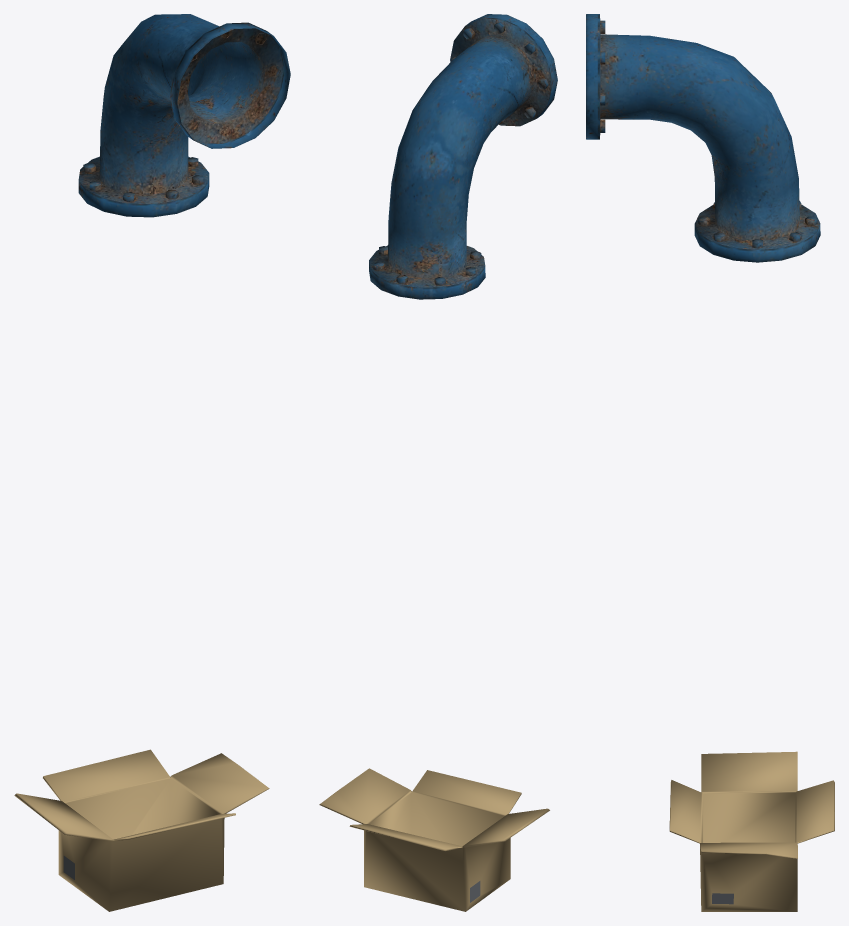
The model's file is box_and_pipe.glb.
3 views of the same model, side by side, from view 1: azimuth 30°, elevation 25°; view 2: azimuth 150°, elevation 25°; view 3: azimuth 270°, elevation 25° (orthographic). The views are drawn at different scales.
Parts seen in each view (by area): view 1: PipeRespawn, SM_Prop_Cardboard_Box_02; view 2: PipeRespawn, SM_Prop_Cardboard_Box_02; view 3: PipeRespawn, SM_Prop_Cardboard_Box_02.
Boxes of the visible parts, x1=… form: PipeRespawn: x1=78, y1=14, x2=290, y2=217; SM_Prop_Cardboard_Box_02: x1=14, y1=749, x2=269, y2=911; PipeRespawn: x1=369, y1=14, x2=557, y2=299; SM_Prop_Cardboard_Box_02: x1=319, y1=768, x2=549, y2=911; PipeRespawn: x1=586, y1=14, x2=820, y2=262; SM_Prop_Cardboard_Box_02: x1=669, y1=751, x2=834, y2=911.
Bounding box in the file's own units: 1.42 × 5.91 × 1.53.
Materials: 2 (2 with a texture image).
